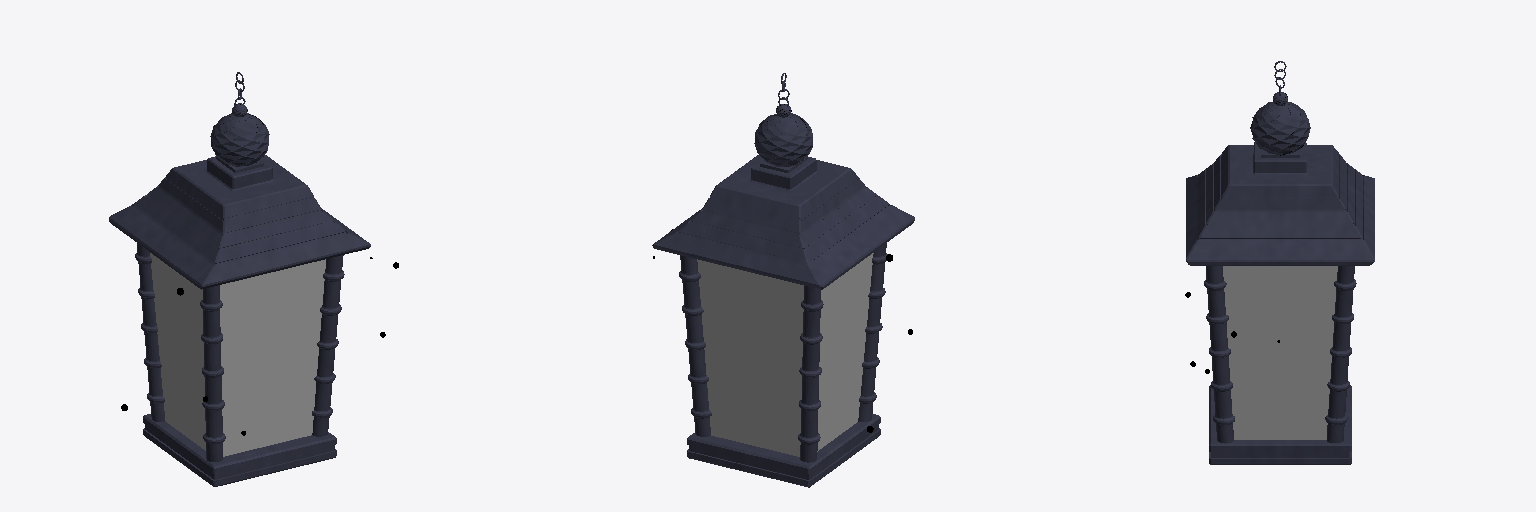
3 views of the same model, side by side, from view 1: azimuth 30°, elevation 25°; view 2: azimuth 150°, elevation 25°; view 3: azimuth 270°, elevation 25° (orthographic).
Visible parts, largest first — view 1: object_0, object_2; view 2: object_0, object_2; view 3: object_0, object_2.
Boxes of the visible parts, <box> form: object_0: <box>109,72,370,486</box>; object_2: <box>150,253,325,456</box>; object_0: <box>652,73,914,487</box>; object_2: <box>697,253,873,456</box>; object_0: <box>1186,61,1374,464</box>; object_2: <box>1223,266,1337,439</box>.
Size of the model in its own units: 529 by 790 by 362.
3 materials, 1 textured.